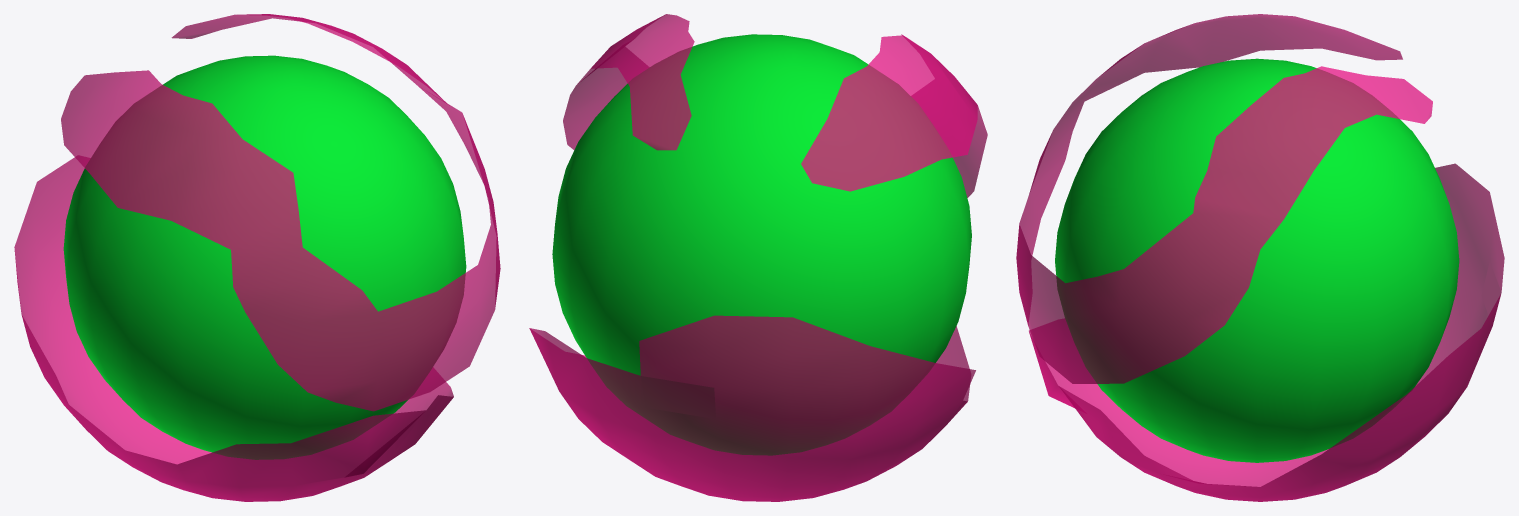
Rendered from collectible.fbx.
The picture shows the model from 3 angles, left to right: view 1: azimuth 30°, elevation 25°; view 2: azimuth 150°, elevation 25°; view 3: azimuth 270°, elevation 25°; orthographic projection. The views are drawn at different scales.
Visible parts, largest first — view 1: pSphere1, pSphere2; view 2: pSphere1, pSphere2; view 3: pSphere1, pSphere2.
Boxes of the visible parts, x1,y1,x2,y2 form: pSphere1: (63, 55, 466, 459); pSphere2: (14, 14, 500, 501); pSphere1: (552, 34, 971, 455); pSphere2: (529, 14, 987, 501); pSphere1: (1055, 58, 1459, 462); pSphere2: (1016, 14, 1504, 501).
Size of the model in its own units: 6.14 by 6.18 by 6.33.
